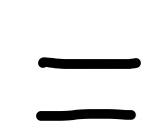eqv: (36, 57, 141, 121)
